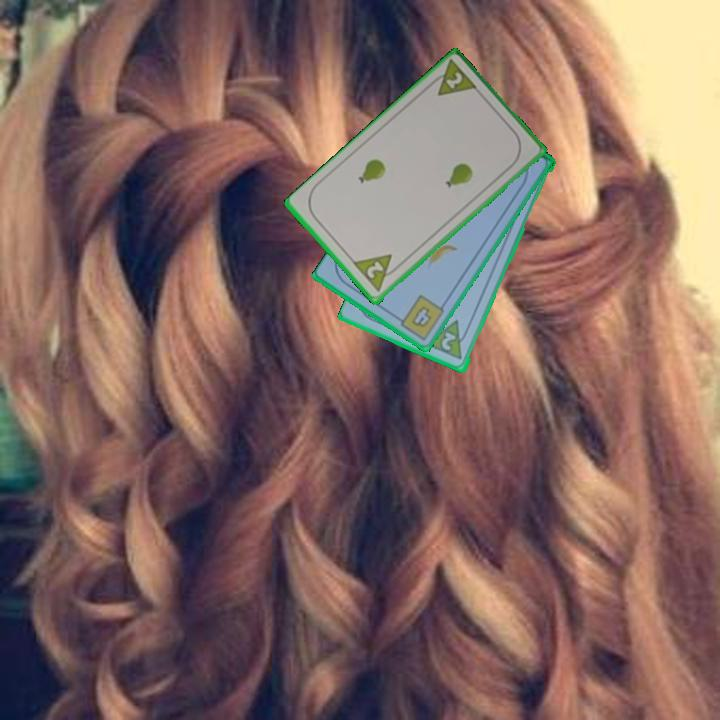2p: (424, 57, 481, 99), (363, 258, 386, 282), (438, 329, 459, 354)
4b: (392, 291, 447, 343)
